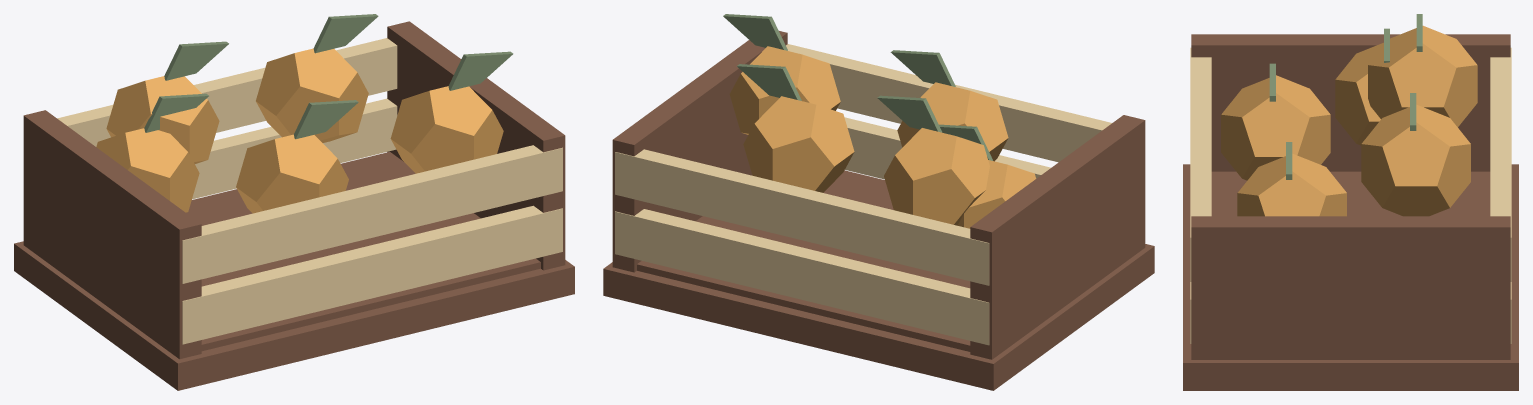
File: fruit_crate.glb
3 views of the same model, side by side, from view 1: azimuth 30°, elevation 25°; view 2: azimuth 150°, elevation 25°; view 3: azimuth 270°, elevation 25° (orthographic). The views are drawn at different scales.
Visible parts, largest first — view 1: crate_slat (×4), crate_end (×2), fruit (×5), paper_base, paper_top, fruit_leaf (×5); view 2: crate_slat (×4), crate_end (×2), fruit (×5), paper_base, paper_top, fruit_leaf (×5); view 3: crate_end (×2), fruit (×5), paper_base, crate_slat (×2), paper_top.
Part boxes in pixels (x1=…): crate_slat (×4): x1=57, y1=38, x2=562, y2=344; crate_end (×2): x1=23, y1=21, x2=565, y2=359; fruit (×5): x1=96, y1=48, x2=503, y2=213; paper_base: x1=14, y1=241, x2=574, y2=390; paper_top: x1=186, y1=152, x2=540, y2=351; fruit_leaf (×5): x1=144, y1=14, x2=513, y2=139; crate_slat (×4): x1=615, y1=44, x2=1111, y2=345; crate_end (×2): x1=612, y1=31, x2=1145, y2=359; fruit (×5): x1=729, y1=46, x2=1036, y2=228; paper_base: x1=603, y1=244, x2=1154, y2=390; paper_top: x1=637, y1=170, x2=970, y2=351; fruit_leaf (×5): x1=723, y1=14, x2=992, y2=160; crate_end (×2): x1=1191, y1=34, x2=1510, y2=359; fruit (×5): x1=1221, y1=25, x2=1477, y2=216; paper_base: x1=1183, y1=164, x2=1518, y2=390; crate_slat (×2): x1=1190, y1=47, x2=1511, y2=281; paper_top: x1=1211, y1=171, x2=1490, y2=216.
Size of the model in its own units: 1.44 by 0.8045 by 1.03.
